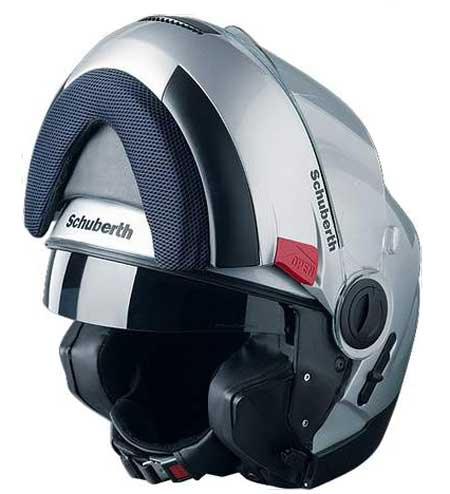helmet: (50, 134, 419, 484)
